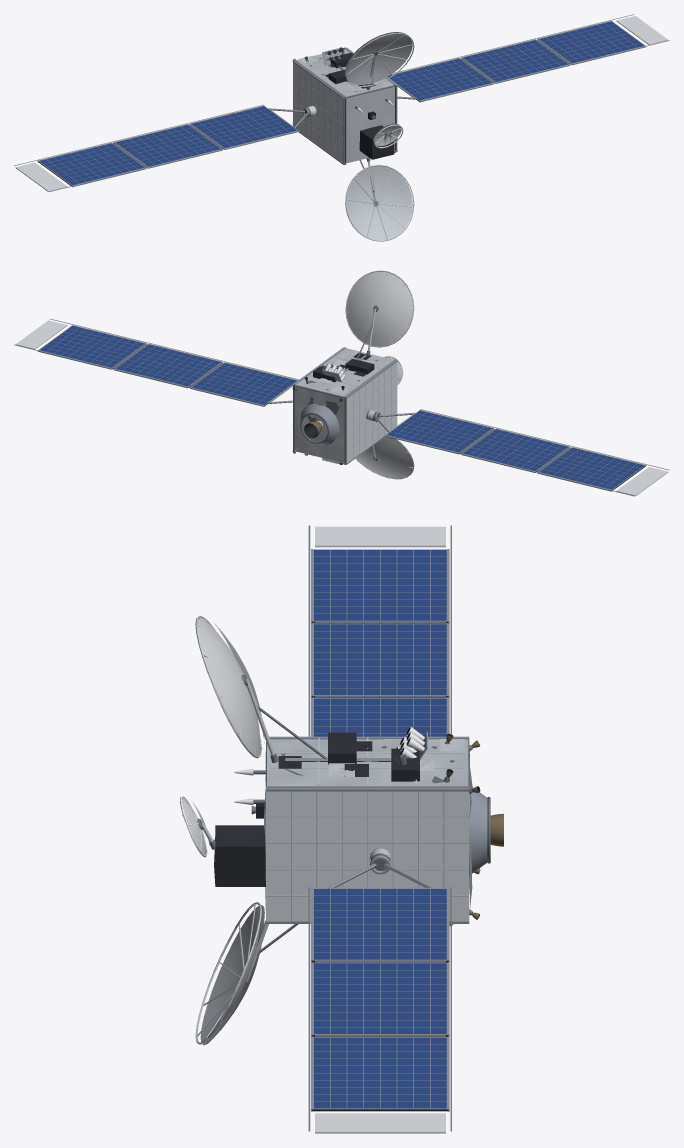
File: bus-geostar-2.glb
3 renders of one model, top to bottom at view 1: azimuth 30°, elevation 25°; view 2: azimuth 150°, elevation 25°; view 3: azimuth 270°, elevation 25°, orthographic. The views are drawn at different scales.
Parts seen in each view (by area): view 1: body, solar-panel, foil; view 2: body, solar-panel, foil; view 3: body, solar-panel, foil.
Part boxes in pixels (left/top/right/bottom): body: left=14, top=14, right=669, bottom=241; solar-panel: left=39, top=21, right=644, bottom=185; foil: left=296, top=49, right=394, bottom=200; body: left=14, top=270, right=669, bottom=496; solar-panel: left=39, top=326, right=644, bottom=489; foil: left=295, top=308, right=393, bottom=462; body: left=180, top=525, right=503, bottom=1133; solar-panel: left=314, top=550, right=446, bottom=1108; foil: left=201, top=678, right=472, bottom=981.
Size of the model in its own units: 22.56 by 7.21 by 5.11.
